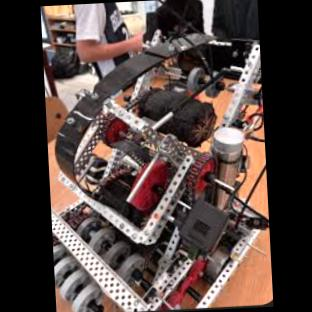Robot: (50, 26, 268, 312)
